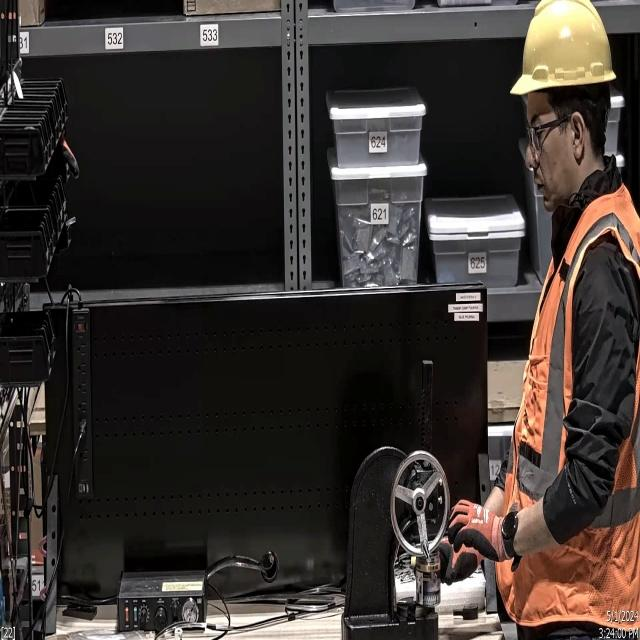construction-gloves: (449, 494, 516, 565)
